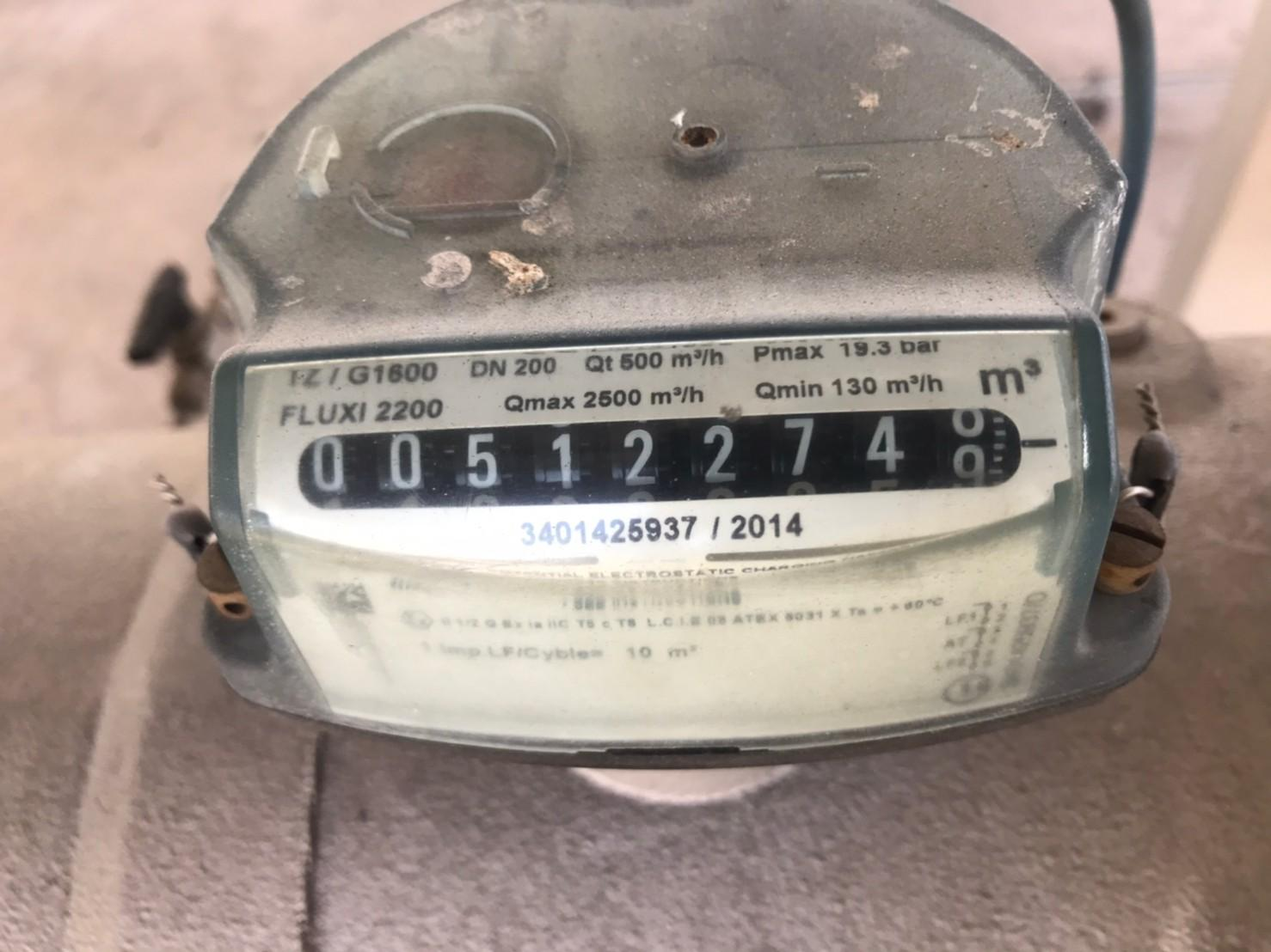analog_dial: (291, 399, 1058, 524)
